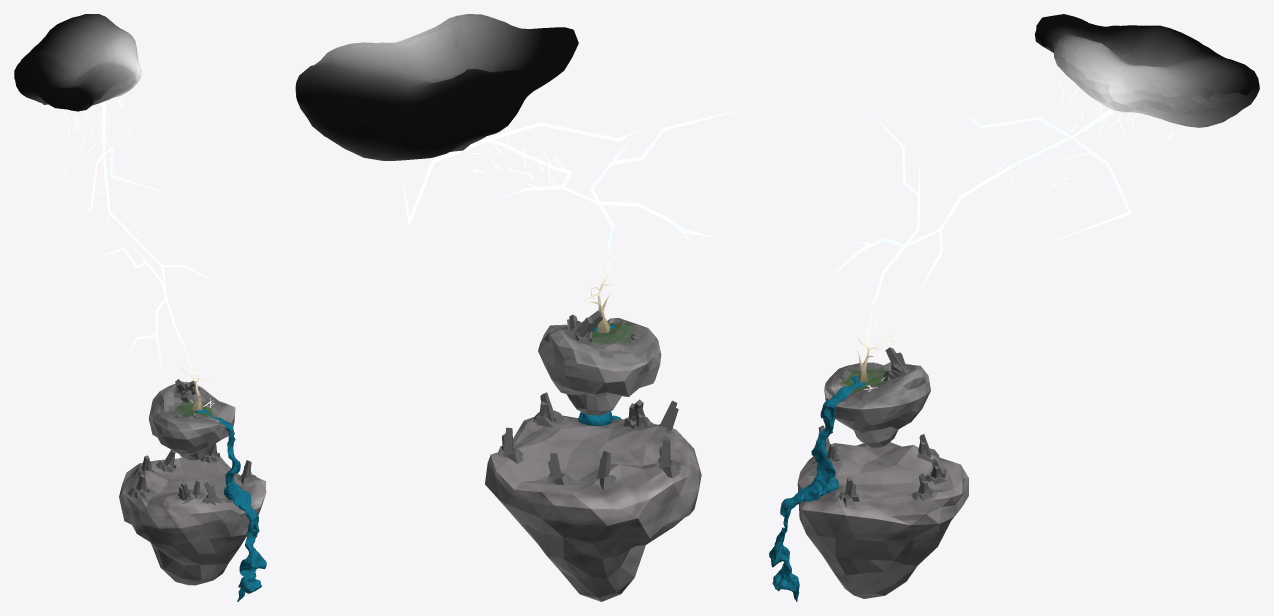
The picture shows the model from 3 angles, left to right: view 1: azimuth 30°, elevation 25°; view 2: azimuth 150°, elevation 25°; view 3: azimuth 270°, elevation 25°; orthographic projection. The views are drawn at different scales.
Visible parts, largest first — view 1: Icosphere.001_Rock2_0, Cube.012_Cloud_0, Icosphere_Rock_0, Plane.014_thunderbult_0, Plane.012_Water_0, Plane.002_Water_0, Cube.014_Rain_0; view 2: Cube.012_Cloud_0, Icosphere.001_Rock2_0, Icosphere_Rock_0, Plane.014_thunderbult_0, Cube.011_Cliff_0; view 3: Icosphere.001_Rock2_0, Cube.012_Cloud_0, Icosphere_Rock_0, Plane.014_thunderbult_0, Plane.012_Water_0, Plane.002_Water_0.
Boxes of the visible parts, x1,y1,x2,y2 form: Icosphere.001_Rock2_0: [119, 456, 266, 585]; Cube.012_Cloud_0: [14, 14, 141, 111]; Icosphere_Rock_0: [148, 381, 235, 460]; Plane.014_thunderbult_0: [87, 101, 222, 372]; Plane.012_Water_0: [230, 491, 266, 601]; Plane.002_Water_0: [195, 408, 243, 499]; Cube.014_Rain_0: [63, 95, 139, 233]; Cube.012_Cloud_0: [295, 14, 578, 160]; Icosphere.001_Rock2_0: [485, 415, 701, 601]; Icosphere_Rock_0: [538, 318, 661, 415]; Plane.014_thunderbult_0: [403, 110, 739, 253]; Cube.011_Cliff_0: [564, 310, 602, 345]; Icosphere.001_Rock2_0: [797, 442, 968, 598]; Cube.012_Cloud_0: [1035, 14, 1259, 127]; Icosphere_Rock_0: [824, 362, 930, 447]; Plane.014_thunderbult_0: [828, 109, 1131, 305]; Plane.012_Water_0: [769, 484, 823, 601]; Plane.002_Water_0: [811, 376, 865, 494].
Bounding box in the file's own units: 5477 × 15065 × 12063.
Materials: 8 (3 with a texture image).
